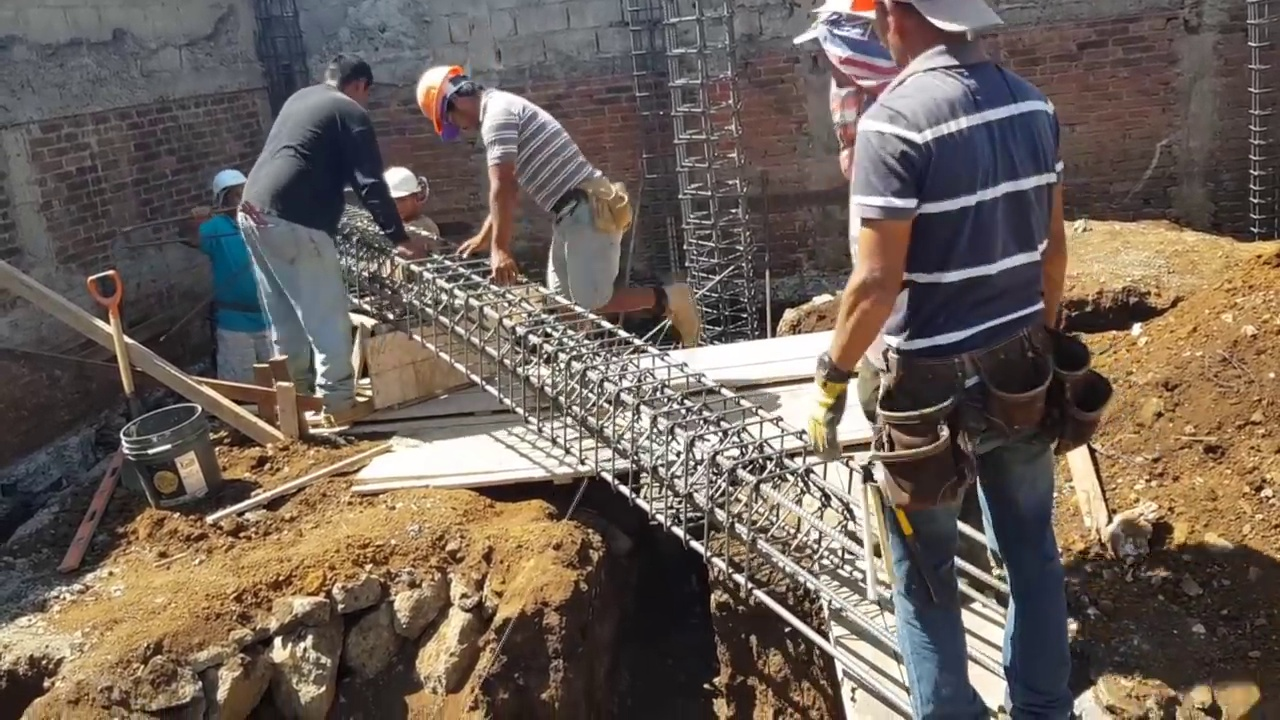helmet: (414, 68, 466, 140), (377, 161, 423, 202), (212, 171, 248, 198)
helmet-off: (869, 0, 1006, 76), (324, 53, 371, 99)
helmet-on: (414, 58, 489, 147), (379, 164, 423, 217), (210, 174, 249, 221)
person: (792, 0, 1095, 720), (413, 61, 703, 343), (248, 54, 414, 421), (187, 170, 265, 384), (376, 158, 440, 257)
